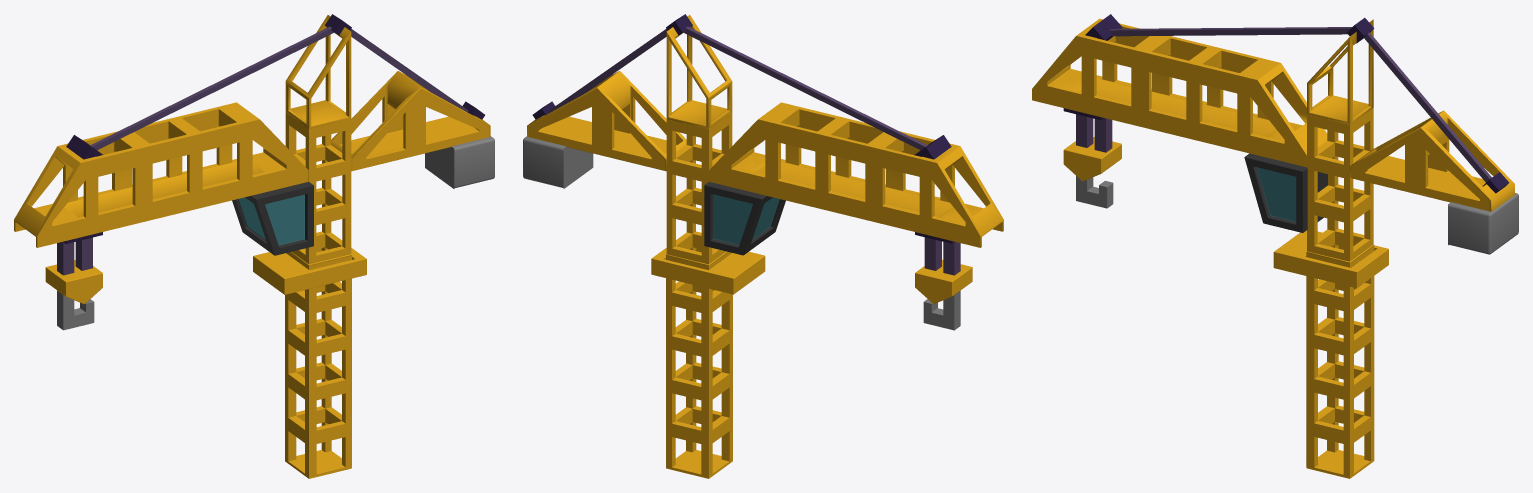
Rendered from Main Crane.fbx.
The picture shows the model from 3 angles, left to right: view 1: azimuth 30°, elevation 25°; view 2: azimuth 150°, elevation 25°; view 3: azimuth 330°, elevation 25°; orthographic projection.
Visible parts, largest first — view 1: Cube.023; view 2: Cube.023; view 3: Cube.023.
Boxes of the visible parts, x1,y1,x2,y2 form: Cube.023: (14, 14, 494, 478); Cube.023: (523, 14, 1003, 478); Cube.023: (1032, 14, 1518, 478).
Size of the model in its own units: 1091 by 1013 by 134.
